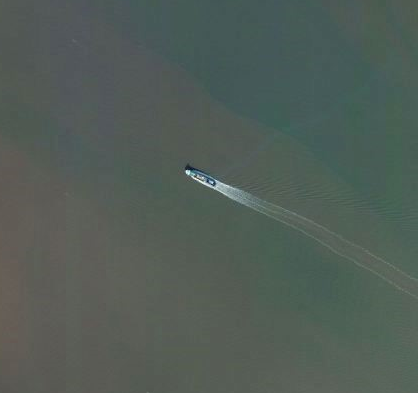ship: (181, 166, 221, 191)
